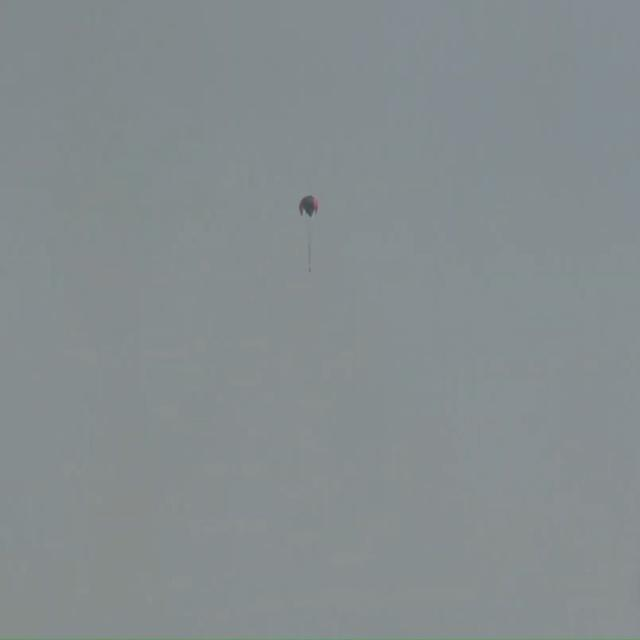Rocket: (309, 267, 311, 273)
